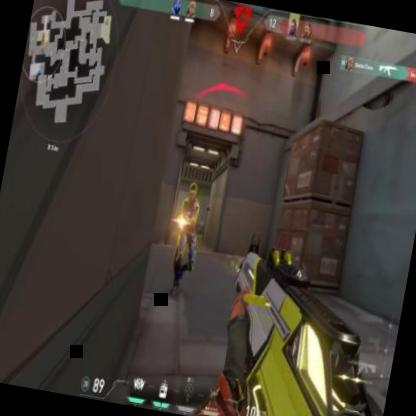enemy: (164, 180, 208, 302)
enemy_head: (186, 181, 198, 201)
